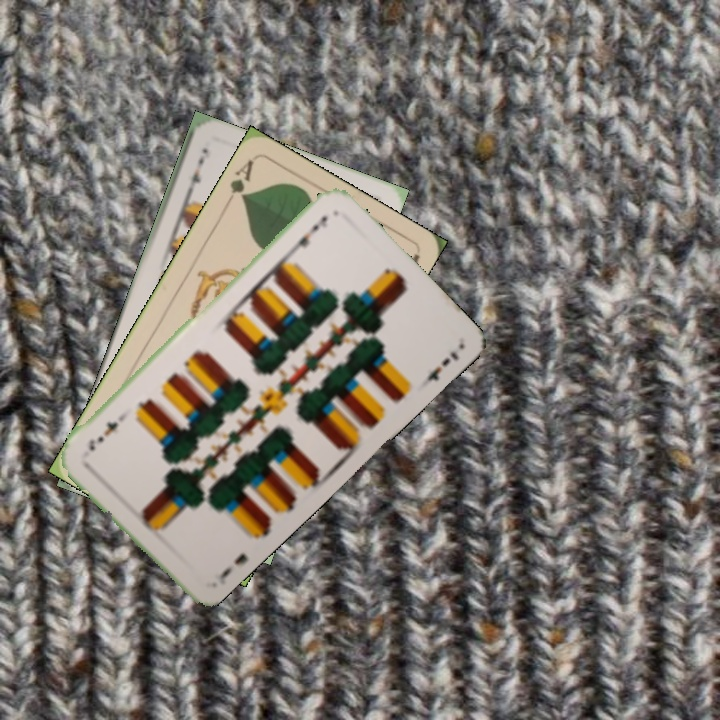E7: (286, 212, 331, 251), (215, 549, 251, 586), (182, 152, 207, 198)
GA: (221, 155, 256, 210)
